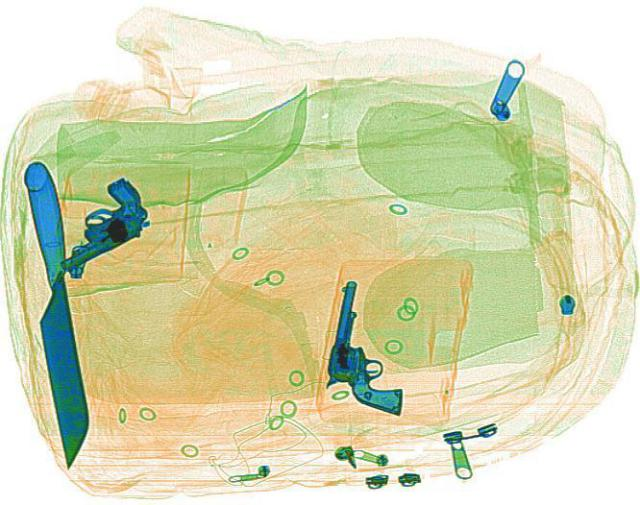Gun: (312, 277, 430, 413), (22, 175, 166, 270)
Knife: (10, 157, 100, 468)
